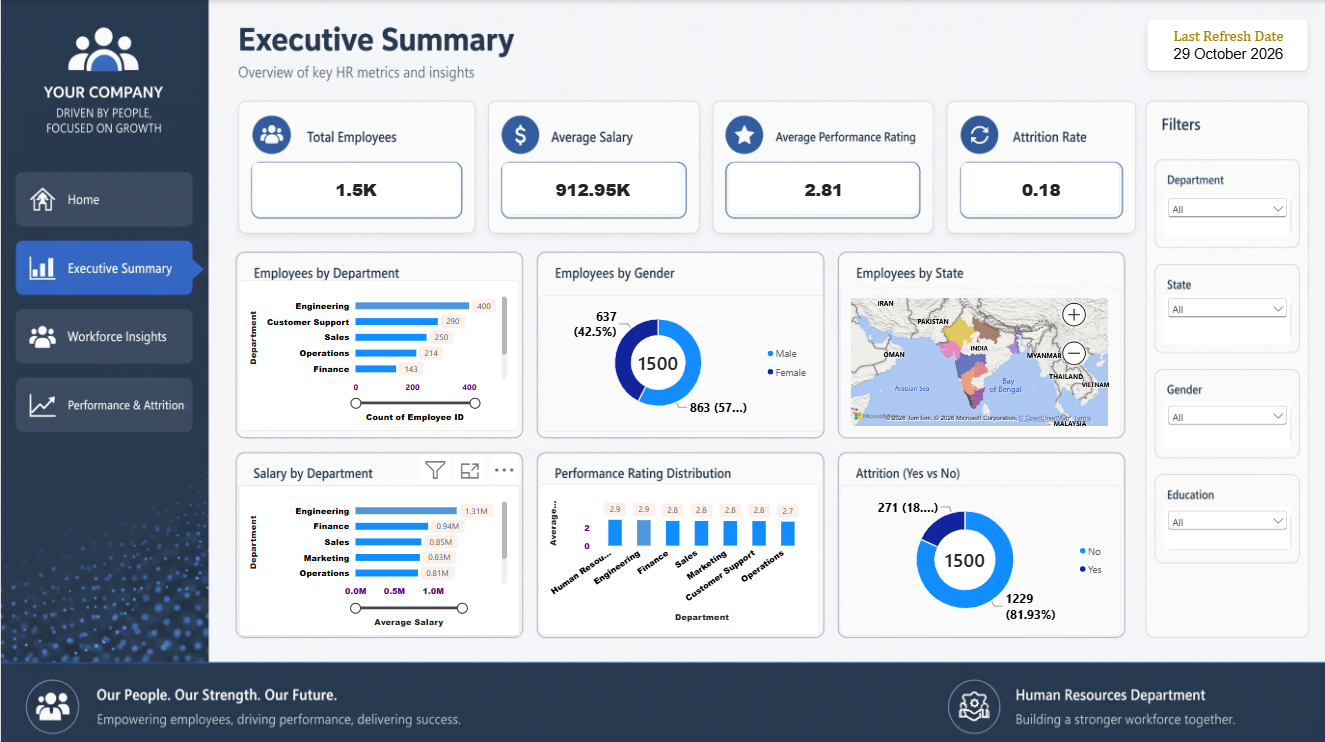

This screenshot's page, from the dashboard's own definition file:
{"tool":"powerbi","page":{"name":"Executive_Summary","canvas":[1920,1080],"ordinal":0},"visuals":[{"type":"actionButton","box":[18,250,260,78],"z":0},{"type":"actionButton","box":[18,346,260,82],"z":1000},{"type":"actionButton","box":[18,442,260,84],"z":2000},{"type":"actionButton","box":[18,540,260,84],"z":3000},{"type":"cardVisual","fields":{"Data":["_Measure.Total Employees"]},"box":[364,236,300,76],"z":4000},{"type":"cardVisual","fields":{"Data":["_Measure.Average Salary"]},"box":[726,236,260,76],"z":5000},{"type":"cardVisual","fields":{"Data":["_Measure.Average Performance Rating"]},"box":[1054,236,274,76],"z":6000},{"type":"cardVisual","fields":{"Data":["_Measure.Attrition Rate"]},"box":[1390,236,230,76],"z":7000},{"type":"clusteredBarChart","fields":{"Category":["HR Data.Department"],"Y":["CountNonNull(HR Data.Employee ID)"]},"box":[344,406,406,218],"z":8000},{"type":"donutChart","fields":{"Category":["HR Data.Gender"],"Y":["_Measure.Total Employees"]},"box":[777.4,427.4,413.9,197.3],"z":9000},{"type":"filledMap","fields":{"Category":["HR Data.State"]},"box":[1214.5,415.8,406,218],"z":10000},{"type":"barChart","fields":{"Category":["HR Data.Department"],"Y":["_Measure.Average Salary"]},"box":[344.2,702,406.1,218.5],"z":11000},{"type":"columnChart","fields":{"Category":["HR Data.Department"],"Y":["_Measure.Average Performance"]},"box":[777.4,700.1,406,218],"z":12000},{"type":"donutChart","fields":{"Category":["HR Data.Attrition"],"Y":["_Measure.Total Employees"]},"box":[1214.5,702,406,218],"z":13000},{"type":"slicer","fields":{"Values":["HR Data.Department"]},"box":[1684.5,282.4,181.8,58],"z":14000},{"type":"slicer","fields":{"Values":["HR Data.Gender"]},"box":[1684.5,582.1,181.8,65.8],"z":15000},{"type":"slicer","fields":{"Values":["HR Data.State"]},"box":[1684.5,427.4,181.8,71.6],"z":16000},{"type":"slicer","fields":{"Values":["HR Data.Education"]},"box":[1684.5,734.9,181.8,60],"z":17000},{"type":"cardVisual","fields":{"Data":["Last Refresh.Last Refresh Date"]},"box":[1659.8,27.4,233.2,76.4],"z":17001}]}

Visuals, with their boxes in screenshot pixels (x1, y1, x2, y2), scaled from the page's 1920x1080 canvas onto the 1325x742 screenshot:
actionButton: [12, 172, 192, 225]
actionButton: [12, 238, 192, 294]
actionButton: [12, 304, 192, 361]
actionButton: [12, 371, 192, 429]
cardVisual - _Measure.Total Employees: [251, 162, 458, 214]
cardVisual - _Measure.Average Salary: [501, 162, 680, 214]
cardVisual - _Measure.Average Performance Rating: [727, 162, 916, 214]
cardVisual - _Measure.Attrition Rate: [959, 162, 1118, 214]
clusteredBarChart - HR Data.Department x CountNonNull(HR Data.Employee ID): [237, 279, 518, 429]
donutChart - HR Data.Gender x _Measure.Total Employees: [536, 294, 822, 429]
filledMap - HR Data.State: [838, 286, 1118, 435]
barChart - HR Data.Department x _Measure.Average Salary: [238, 482, 518, 632]
columnChart - HR Data.Department x _Measure.Average Performance: [536, 481, 817, 631]
donutChart - HR Data.Attrition x _Measure.Total Employees: [838, 482, 1118, 632]
slicer - HR Data.Department: [1162, 194, 1288, 234]
slicer - HR Data.Gender: [1162, 400, 1288, 445]
slicer - HR Data.State: [1162, 294, 1288, 343]
slicer - HR Data.Education: [1162, 505, 1288, 546]
cardVisual - Last Refresh.Last Refresh Date: [1145, 19, 1306, 71]
